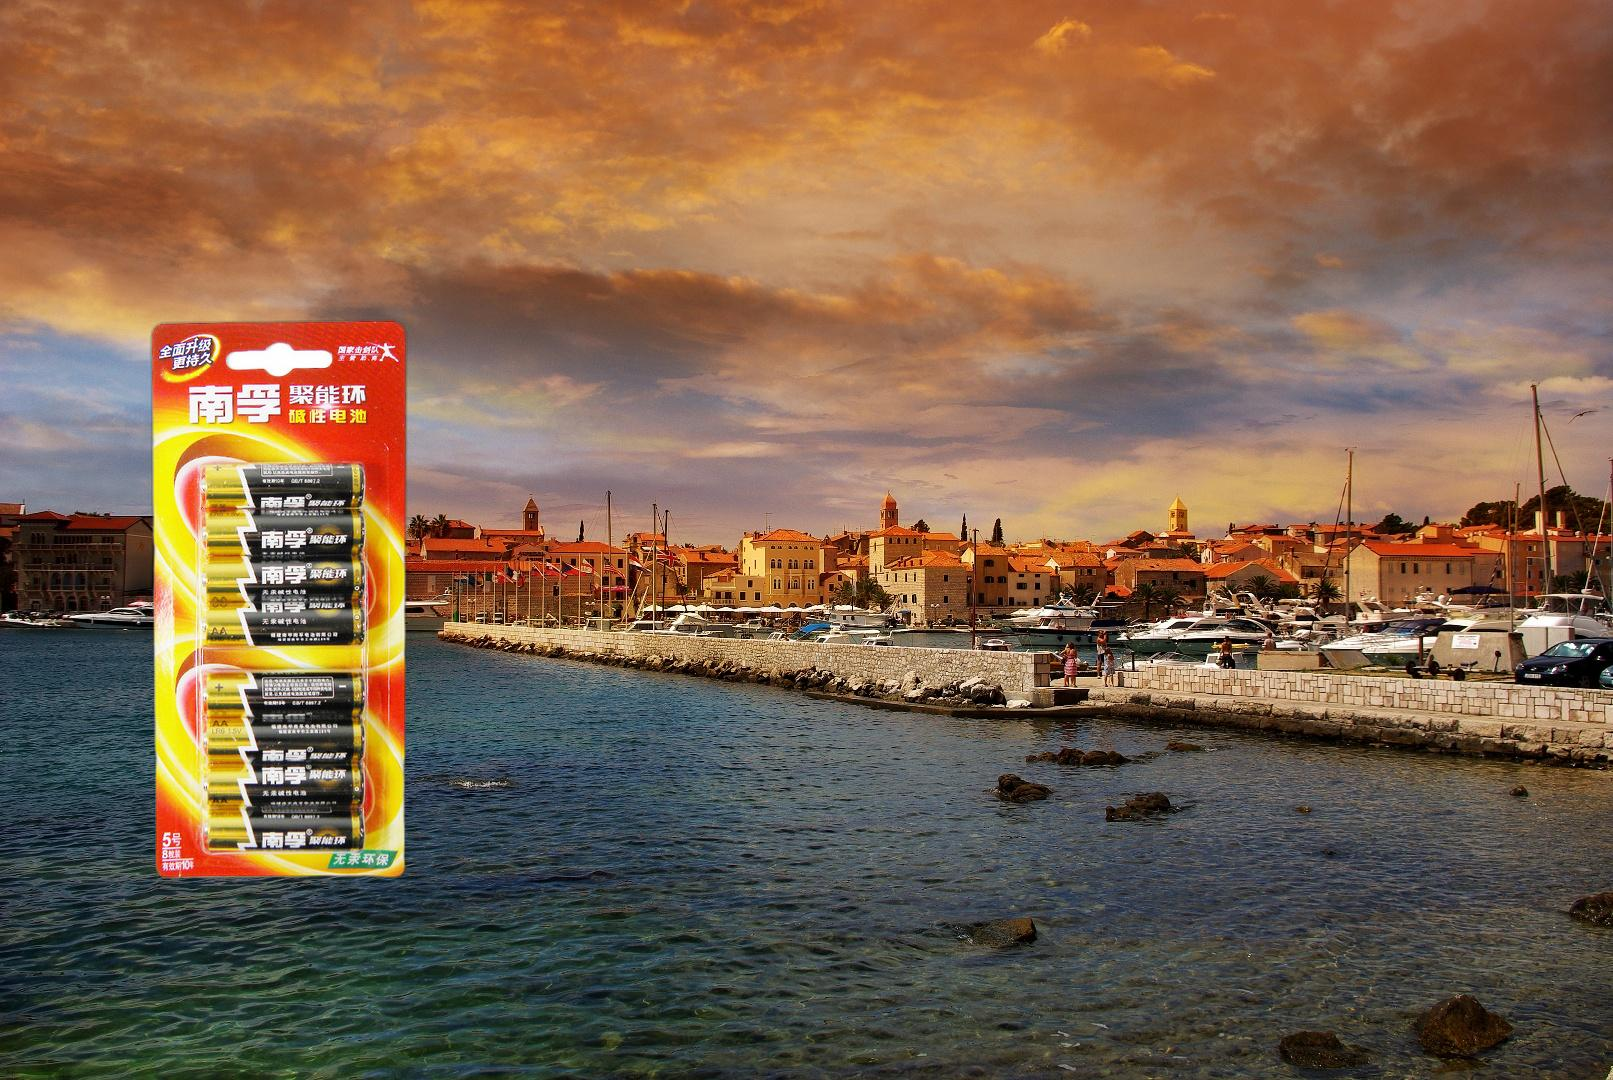battery: (146, 315, 411, 884)
